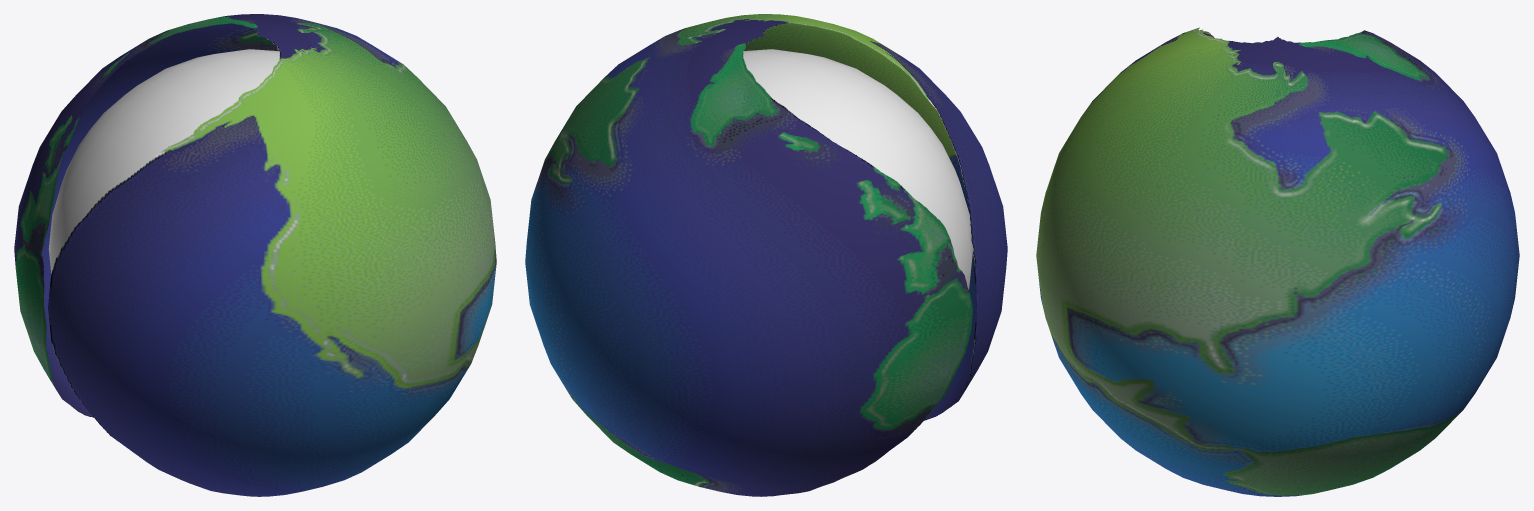
Rendered from RealEarth3D.fbx.
The picture shows the model from 3 angles, left to right: view 1: azimuth 30°, elevation 25°; view 2: azimuth 150°, elevation 25°; view 3: azimuth 270°, elevation 25°; orthographic projection.
Visible parts, largest first — view 1: Sphere, Cube; view 2: Sphere, Cube; view 3: Sphere.
Part boxes in pixels (x1,y1,x2,y2): Sphere: [14, 14, 496, 496]; Cube: [48, 49, 279, 273]; Sphere: [525, 14, 1007, 496]; Cube: [743, 49, 972, 289]; Sphere: [1036, 27, 1519, 496].
Size of the model in its own units: 200 by 200 by 200.
2 materials, 1 textured.
